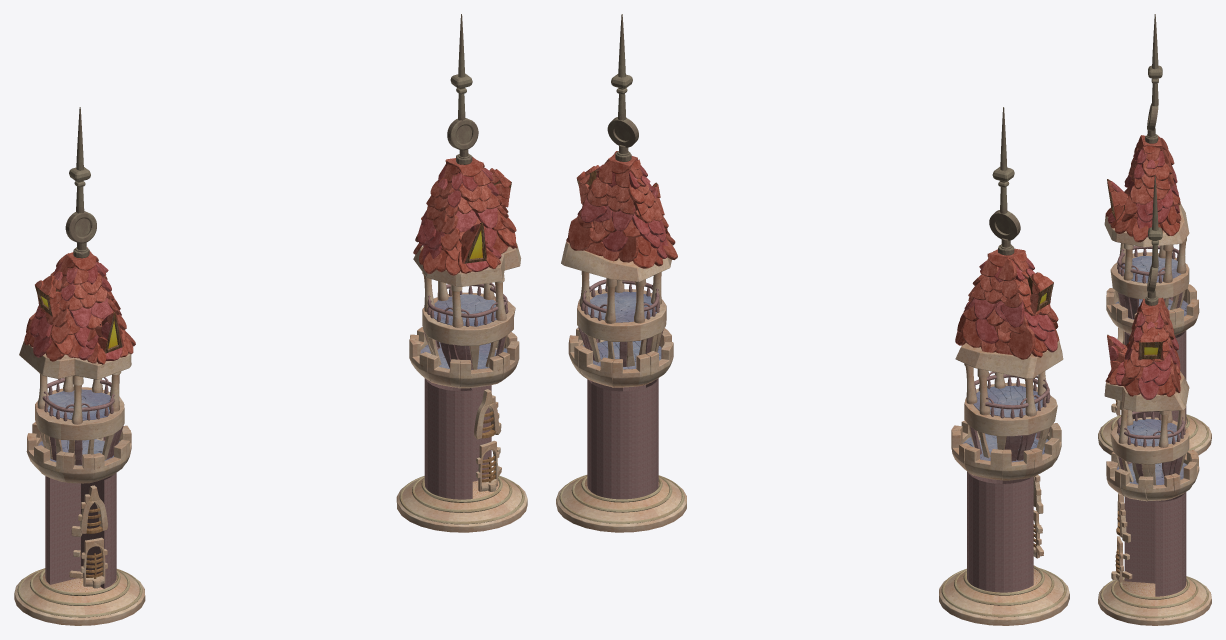
File: castle_sides.glb
The picture shows the model from 3 angles, left to right: view 1: azimuth 30°, elevation 25°; view 2: azimuth 150°, elevation 25°; view 3: azimuth 270°, elevation 25°; orthographic projection. The views are drawn at different scales.
Parts seen in each view (by area): view 1: polySurface3, polySurface3.001, cb832, cb832.001, cb2834.001, cb2834, cb2850, cb2850.001, cb2835.001, polySurface2.001, polySurface2, cb2835 (+8 smaller); view 2: polySurface3, cb832, polySurface3.001, cb832.001, cb2834.001, cb2834, cb2835.001, cb2850.001, cb2850, cb2835, polySurface2, polySurface2.001 (+9 smaller); view 3: cb832, polySurface3.001, polySurface3, cb2834, cb2850, cb2835, cb2850.001, polySurface2, polySurface2.001, cb2835.001, cb2834.001, polySurface35 (+27 smaller).
Part boxes in pixels (x1=…): polySurface3: x1=413, y1=157, x2=517, y2=275; polySurface3.001: x1=24, y1=247, x2=135, y2=364; cb832: x1=424, y1=378, x2=491, y2=499; cb832.001: x1=45, y1=473, x2=116, y2=588; cb2834.001: x1=14, y1=571, x2=145, y2=625; cb2834: x1=396, y1=475, x2=527, y2=532; cb2850: x1=422, y1=292, x2=515, y2=345; cb2850.001: x1=35, y1=387, x2=124, y2=440; cb2835.001: x1=19, y1=341, x2=131, y2=379; polySurface2.001: x1=65, y1=107, x2=96, y2=258; polySurface2: x1=447, y1=14, x2=478, y2=164; cb2835: x1=413, y1=242, x2=521, y2=286; polySurface3: x1=566, y1=151, x2=677, y2=268; cb832: x1=587, y1=378, x2=658, y2=499; polySurface3.001: x1=955, y1=248, x2=1059, y2=359; cb832.001: x1=967, y1=471, x2=1033, y2=592; cb2834.001: x1=939, y1=568, x2=1069, y2=625; cb2834: x1=556, y1=477, x2=686, y2=532; cb2835.001: x1=955, y1=341, x2=1063, y2=378; cb2850.001: x1=964, y1=383, x2=1057, y2=436; cb2850: x1=577, y1=289, x2=666, y2=341; cb2835: x1=561, y1=242, x2=673, y2=281; polySurface2: x1=607, y1=14, x2=638, y2=161; polySurface2.001: x1=989, y1=107, x2=1020, y2=255; cb832: x1=1124, y1=492, x2=1186, y2=596; polySurface3.001: x1=1105, y1=135, x2=1181, y2=242; polySurface3: x1=1105, y1=297, x2=1181, y2=399; cb2834: x1=1098, y1=578, x2=1211, y2=625; cb2850: x1=1110, y1=417, x2=1189, y2=464; cb2835: x1=1104, y1=371, x2=1189, y2=411; cb2850.001: x1=1110, y1=252, x2=1189, y2=299; polySurface2: x1=1145, y1=175, x2=1162, y2=305; polySurface2.001: x1=1145, y1=14, x2=1162, y2=143; cb2835.001: x1=1104, y1=204, x2=1189, y2=247; cb2834.001: x1=1098, y1=416, x2=1211, y2=455; polySurface35: x1=1118, y1=419, x2=1180, y2=446.
Bounding box in the file's own units: 1.68 × 1.59 × 0.3851.
Materials: 22 (22 with a texture image).
